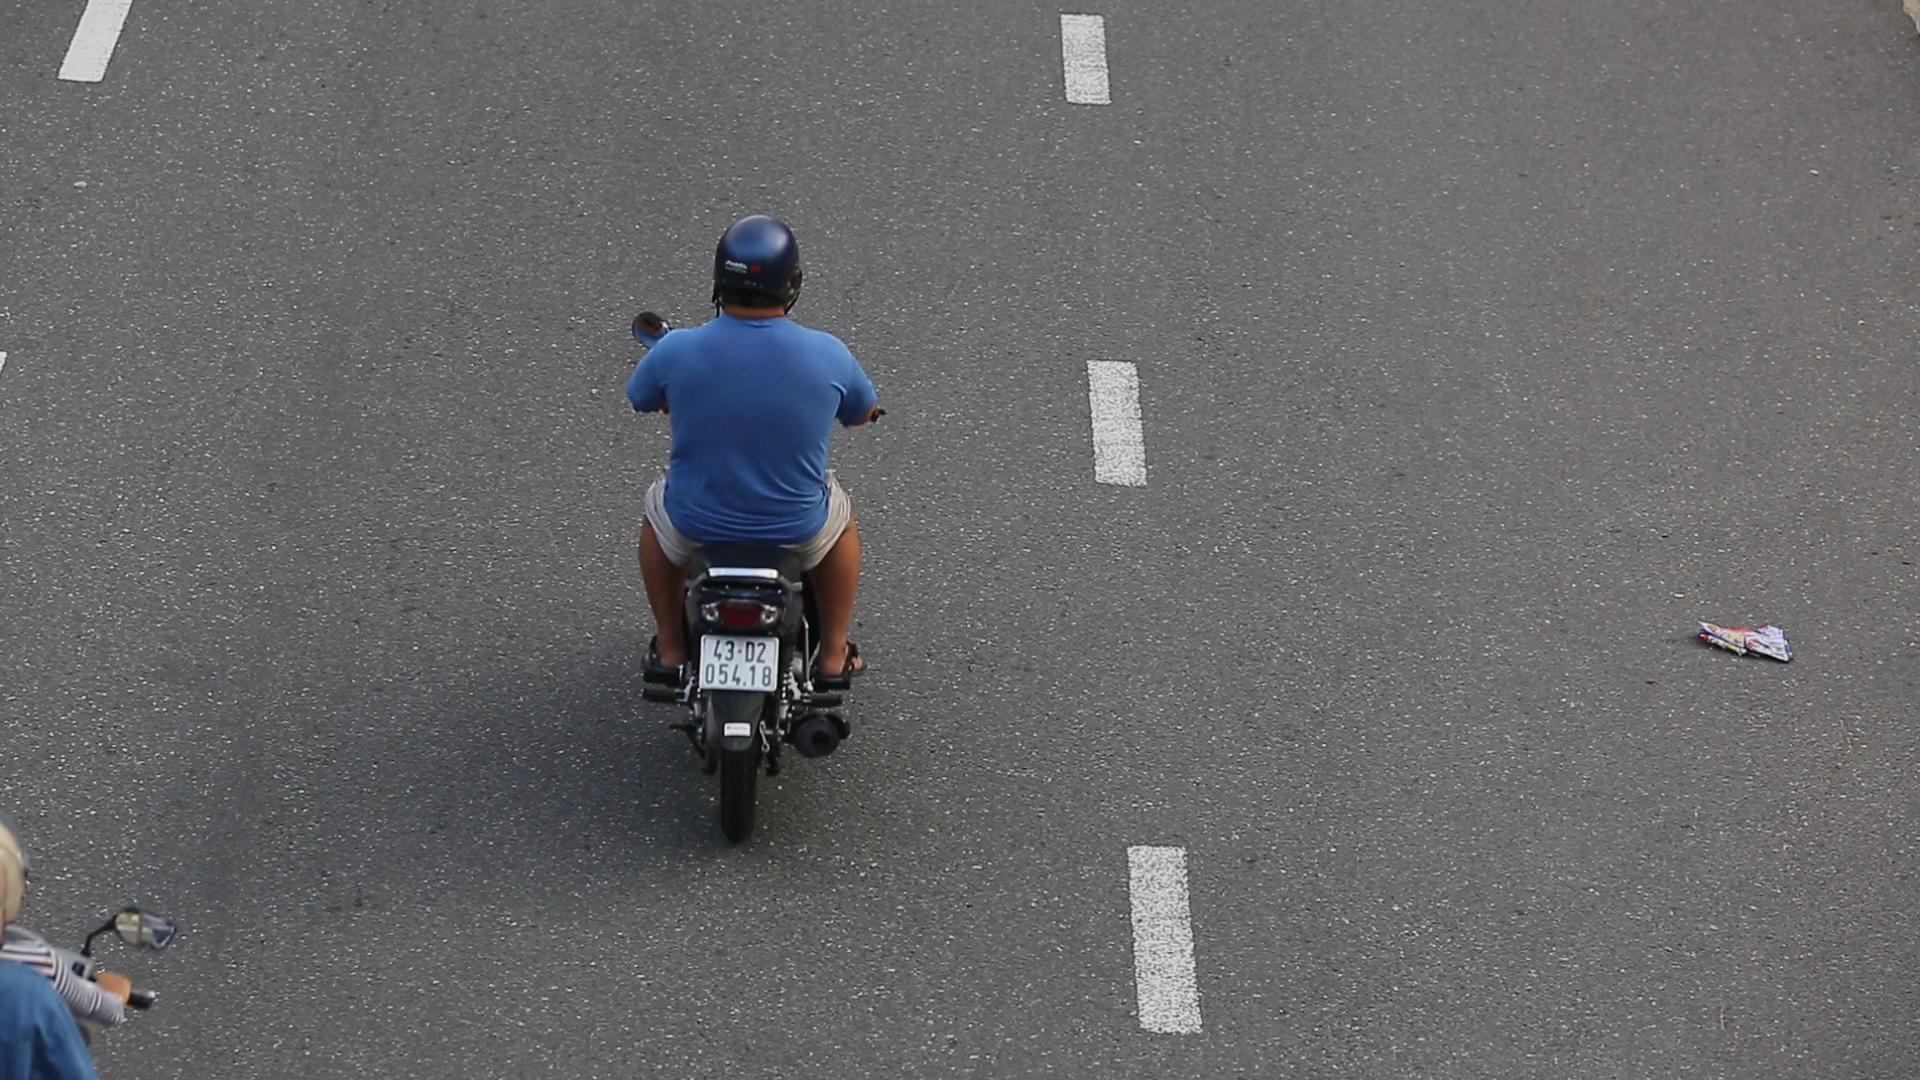motobike: (609, 199, 891, 849)
